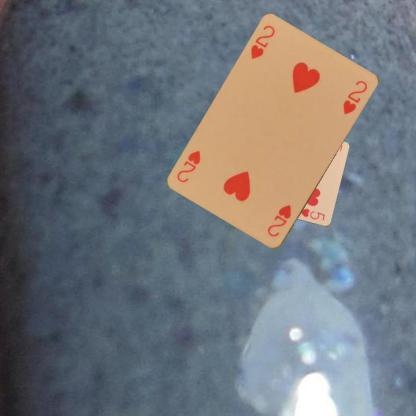2h: (248, 23, 277, 61), (265, 202, 293, 239)
